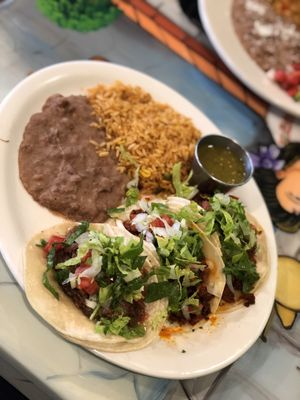pizza: (190, 134, 254, 196)
sushi: (197, 0, 299, 121), (189, 134, 254, 195)
